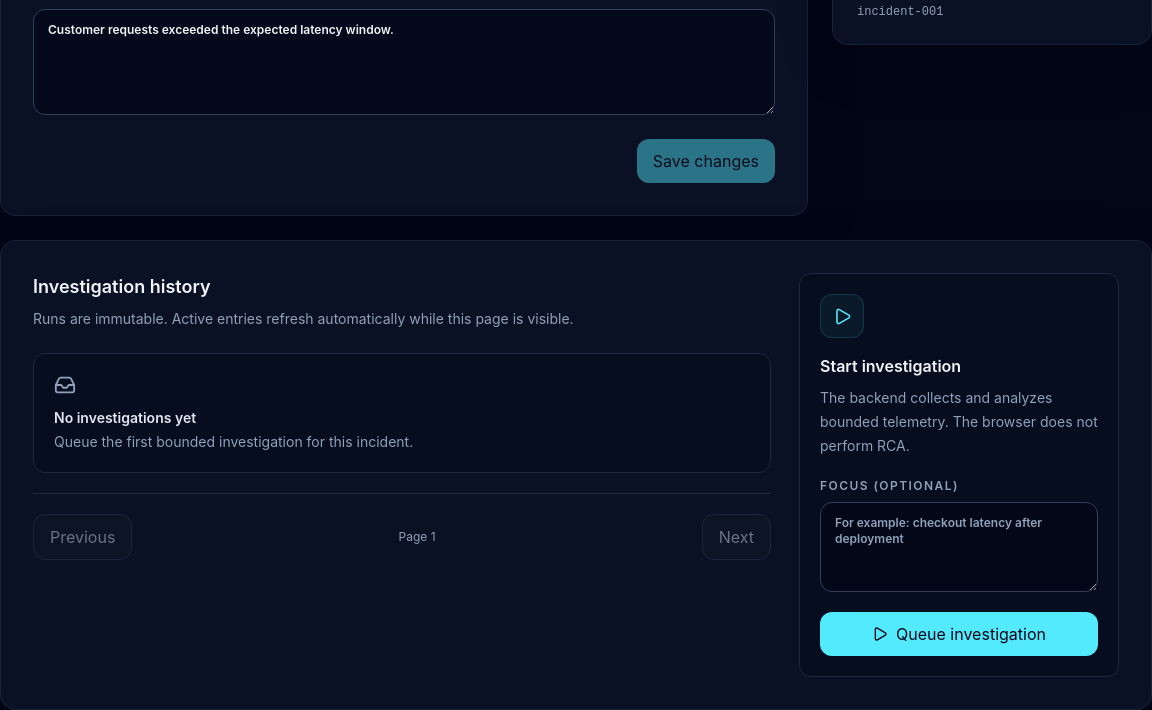
Test case: incident investigation history › refreshes history and explains a backend active-run conflict
The image size is (1152, 710).
(page scrolled)
Expected: the text "No investigations yet" is shown, [54,409,196,426]
Click the button "Queue investigation". click: (959, 634)
box: [820,612,1098,656]
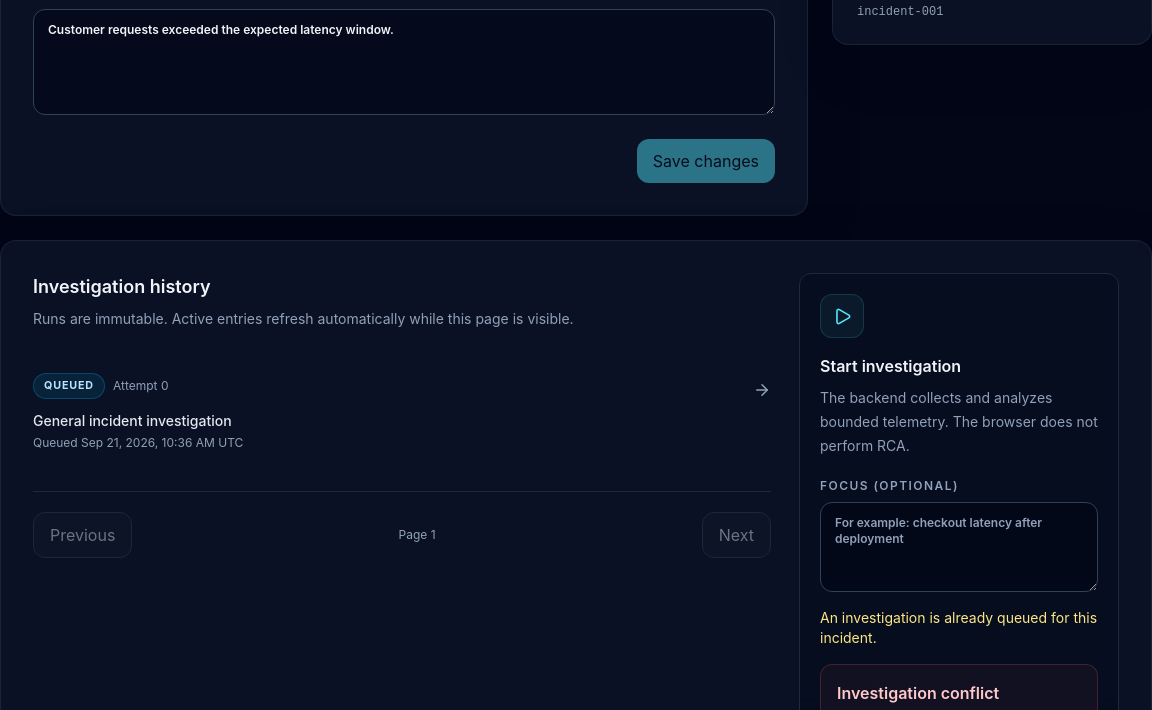
Result: the text "Investigation conflict" is shown at [837,683,999,703]
Result: the text "An investigation is already queued for this incident." is shown at [820,608,1098,648]
